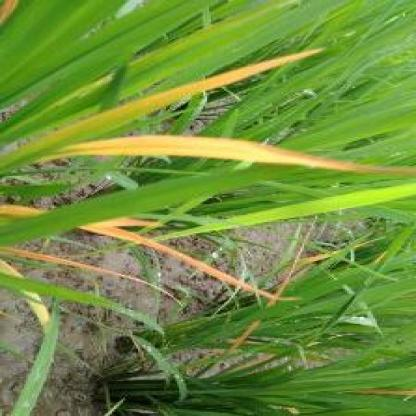Tungro: (1, 47, 331, 186), (50, 132, 415, 175)
